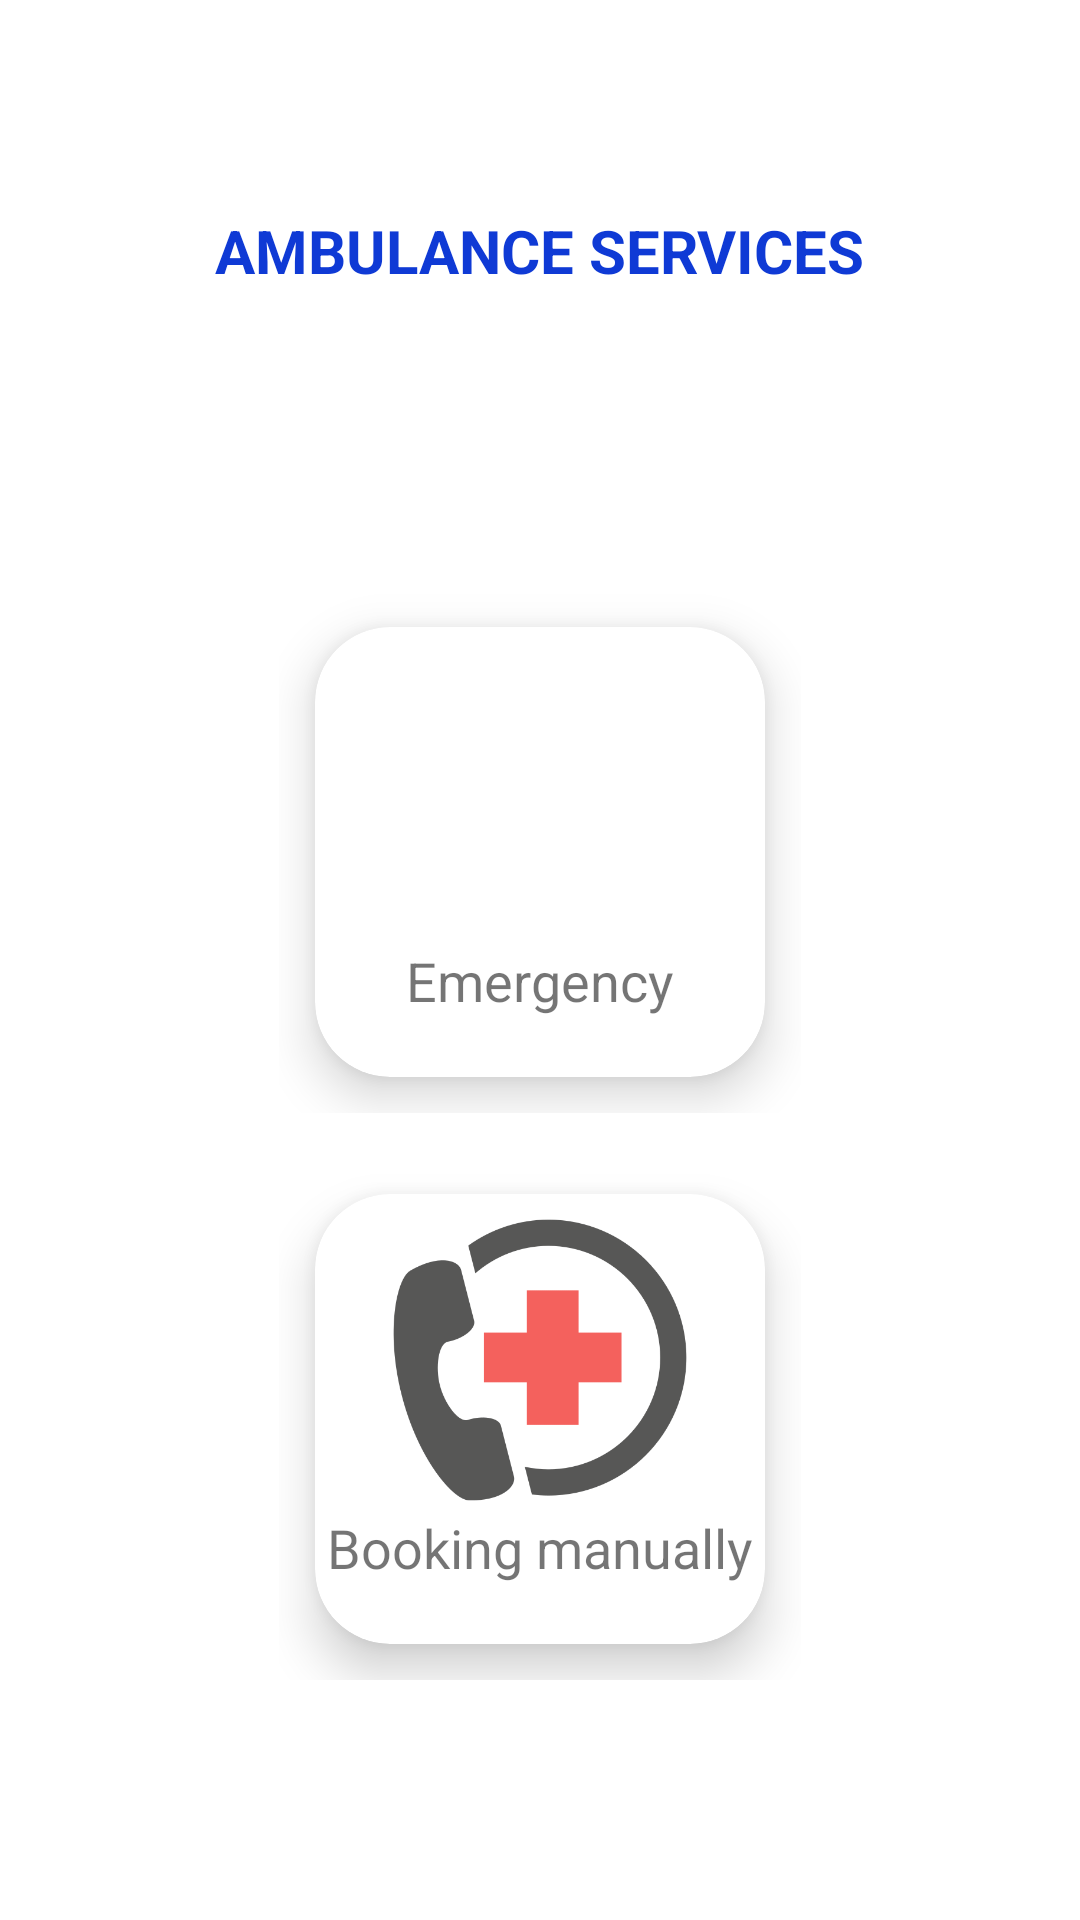

Where to tap for icons on this 1080*1920 app screen, as (x,y):
ambulance booking: (540,1360)
